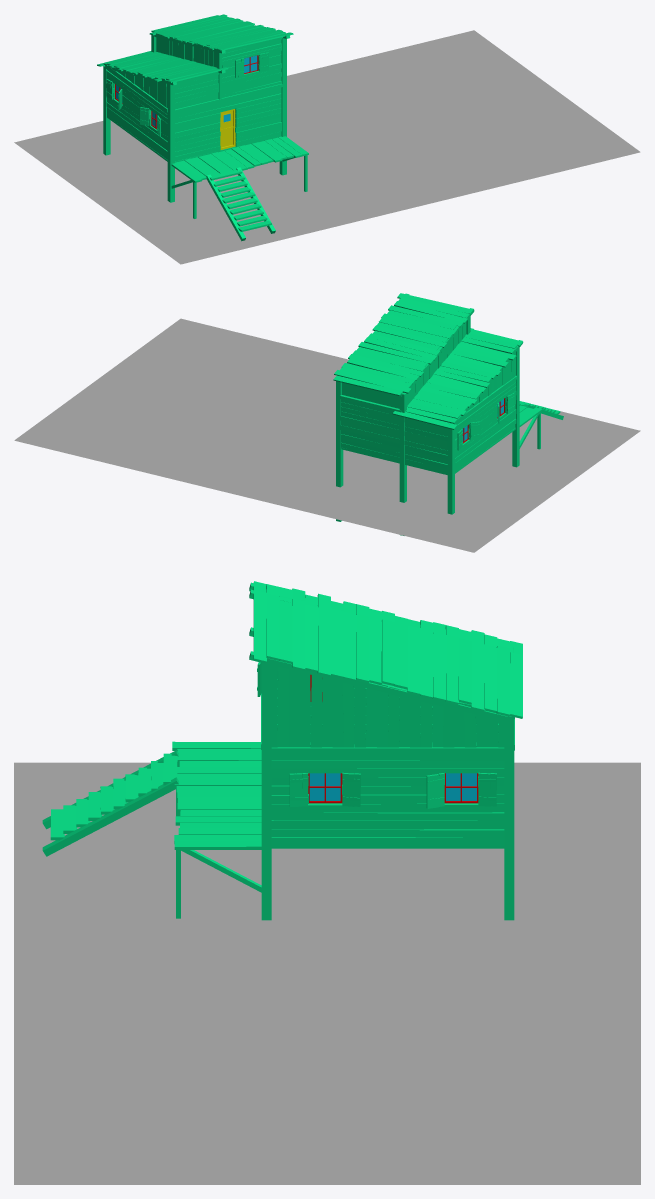
Rendered from casapirata1_unity.fbx.
3 renders of one model, top to bottom at view 1: azimuth 30°, elevation 25°; view 2: azimuth 150°, elevation 25°; view 3: azimuth 270°, elevation 25°, orthographic. The views are drawn at different scales.
Parts seen in each view (by area): view 1: pPlane2, MASH_ReproMesh1, MASH9_ReproMesh1, MASH1_ReproMesh1, MASH10_ReproMesh1, MASH8_ReproMesh1, Armação, Armação1, MASH7_ReproMesh1, polySurface469, polySurface291, polySurface208 (+8 smaller); view 2: pPlane2, MASH_ReproMesh1, MASH1_ReproMesh1, MASH6_ReproMesh1, MASH8_ReproMesh1, polySurface160, Armação9, Armação3, Armação2, Armação, MASH7_ReproMesh1, polySurface235; view 3: pPlane2, MASH_ReproMesh1, MASH2_ReproMesh1, MASH9_ReproMesh1, MASH10_ReproMesh1, Armação1, MASH1_ReproMesh1, polySurface219, Armação2, polySurface212, polySurface218, polySurface211 (+9 smaller).
Part boxes in pixels (x1=…): pPlane2: x1=14, y1=30, x2=640, y2=264; MASH_ReproMesh1: x1=149, y1=14, x2=293, y2=50; MASH9_ReproMesh1: x1=171, y1=136, x2=308, y2=182; MASH1_ReproMesh1: x1=97, y1=51, x2=228, y2=82; MASH10_ReproMesh1: x1=209, y1=169, x2=271, y2=231; MASH8_ReproMesh1: x1=156, y1=37, x2=216, y2=67; Armação: x1=167, y1=80, x2=174, y2=202; Armação1: x1=279, y1=37, x2=286, y2=175; MASH7_ReproMesh1: x1=118, y1=72, x2=167, y2=107; polySurface469: x1=220, y1=109, x2=235, y2=149; polySurface291: x1=175, y1=93, x2=281, y2=123; polySurface208: x1=175, y1=72, x2=281, y2=102; pPlane2: x1=14, y1=318, x2=640, y2=552; MASH_ReproMesh1: x1=333, y1=293, x2=473, y2=396; MASH1_ReproMesh1: x1=392, y1=329, x2=523, y2=429; MASH6_ReproMesh1: x1=340, y1=399, x2=449, y2=473; MASH8_ReproMesh1: x1=403, y1=322, x2=466, y2=405; polySurface160: x1=342, y1=382, x2=399, y2=408; Armação9: x1=399, y1=392, x2=406, y2=535; Armação3: x1=447, y1=428, x2=454, y2=514; Armação2: x1=336, y1=381, x2=343, y2=521; Armação: x1=512, y1=347, x2=519, y2=467; MASH7_ReproMesh1: x1=468, y1=352, x2=515, y2=410; polySurface235: x1=341, y1=422, x2=515, y2=474; pPlane2: x1=14, y1=762, x2=640, y2=1184; MASH_ReproMesh1: x1=253, y1=589, x2=522, y2=718; MASH2_ReproMesh1: x1=271, y1=665, x2=504, y2=747; MASH9_ReproMesh1: x1=172, y1=741, x2=261, y2=849; MASH10_ReproMesh1: x1=50, y1=753, x2=177, y2=840; Armação1: x1=261, y1=663, x2=271, y2=920; MASH1_ReproMesh1: x1=253, y1=581, x2=522, y2=654; polySurface219: x1=271, y1=820, x2=504, y2=829; Armação2: x1=504, y1=716, x2=514, y2=920; polySurface212: x1=271, y1=837, x2=504, y2=846; polySurface218: x1=271, y1=812, x2=504, y2=820; polySurface211: x1=271, y1=760, x2=504, y2=768.
Size of the model in its own units: 28.82 by 10.88 by 18.09.
